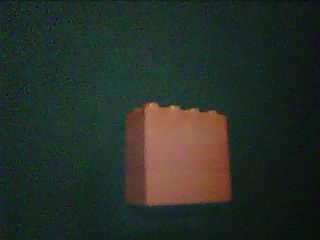lego: (121, 102, 235, 207)
